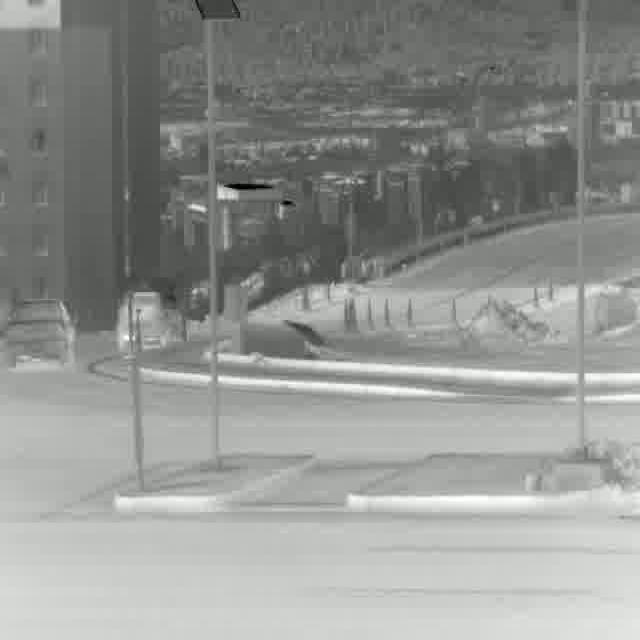Car: (5, 299, 80, 369), (119, 290, 184, 354)
